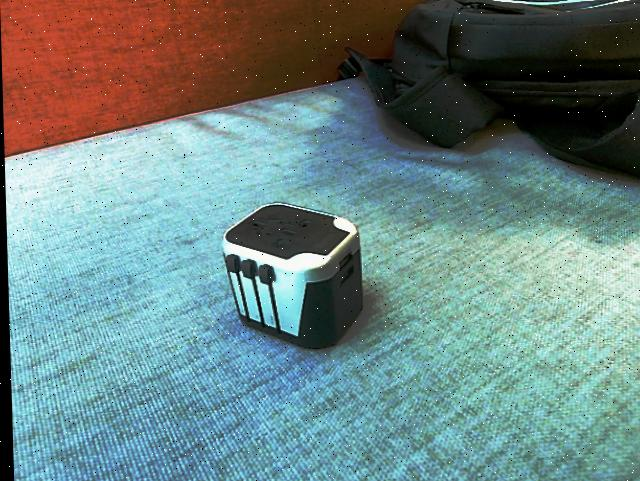adapter: (218, 202, 363, 350)
